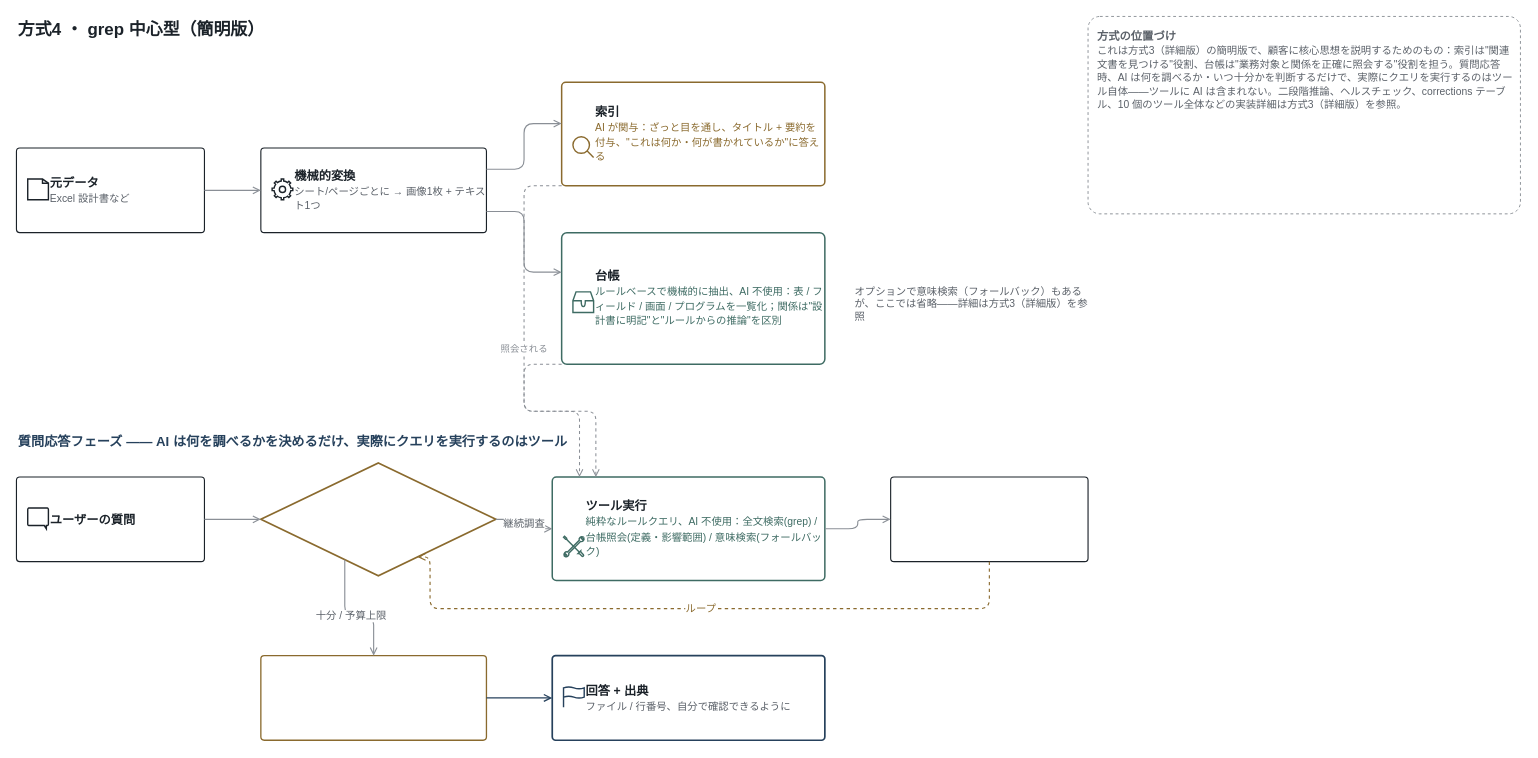
Image size: 1538x758. Some labels were removed from this diagram. The centre of each missing label's shape, as x and y in pixels:
"AI の判断 さらに調べるか？何を調べるか？" goes at (378,519).
"回答を生成 材料が揃った / 予算上限に到達" goes at (373,697).
"結果を取得 そのまま返し、次の判断は AI に委ねる" goes at (989,519).
